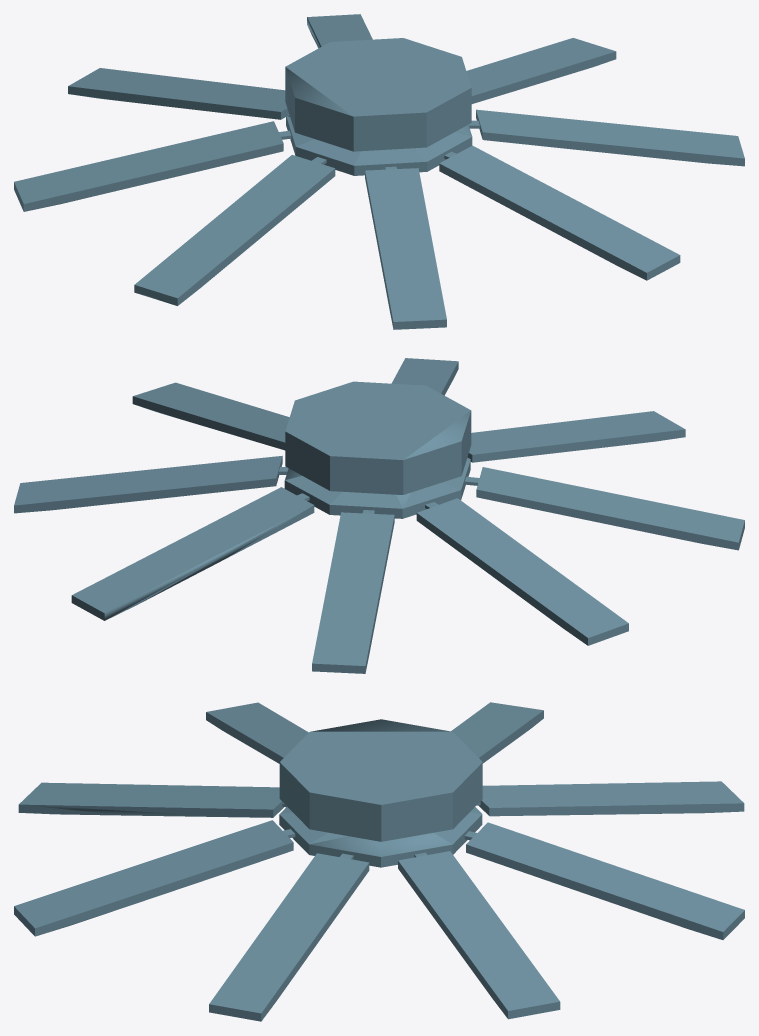
File: ceiling_fan.glb
The picture shows the model from 3 angles, top to bottom: view 1: azimuth 30°, elevation 25°; view 2: azimuth 150°, elevation 25°; view 3: azimuth 270°, elevation 25°; orthographic projection. The views are drawn at different scales.
Visible parts, largest first — view 1: ceiling_fan.001, ceiling_fan_base; view 2: ceiling_fan.001, ceiling_fan_base; view 3: ceiling_fan.001, ceiling_fan_base.
Boxes of the visible parts, <box> form: ceiling_fan.001: <box>14,14,744,329</box>; ceiling_fan_base: <box>285,38,471,151</box>; ceiling_fan.001: <box>14,358,744,673</box>; ceiling_fan_base: <box>285,381,471,494</box>; ceiling_fan.001: <box>14,702,744,1021</box>; ceiling_fan_base: <box>279,719,482,841</box>.
Size of the model in its own units: 6.6 by 1.03 by 6.55.
